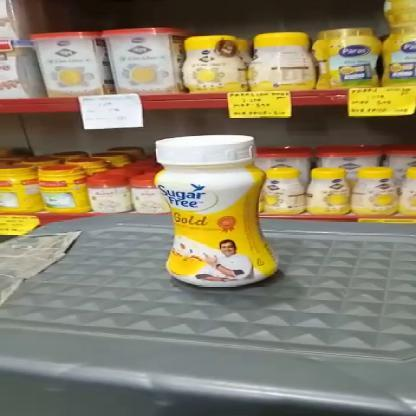SUGAR FREE GOLD POWDER 100GM: (151, 134, 285, 289)
